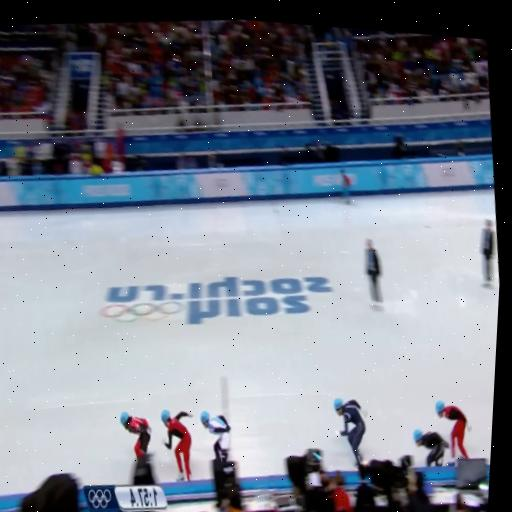Skater: (160, 410, 190, 481), (333, 399, 364, 465), (435, 400, 469, 459), (200, 411, 229, 462), (120, 412, 150, 459), (412, 429, 448, 467)
